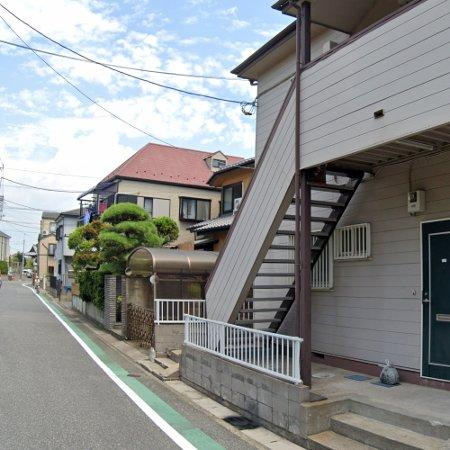stairs: (236, 198, 296, 332), (309, 167, 363, 261)
